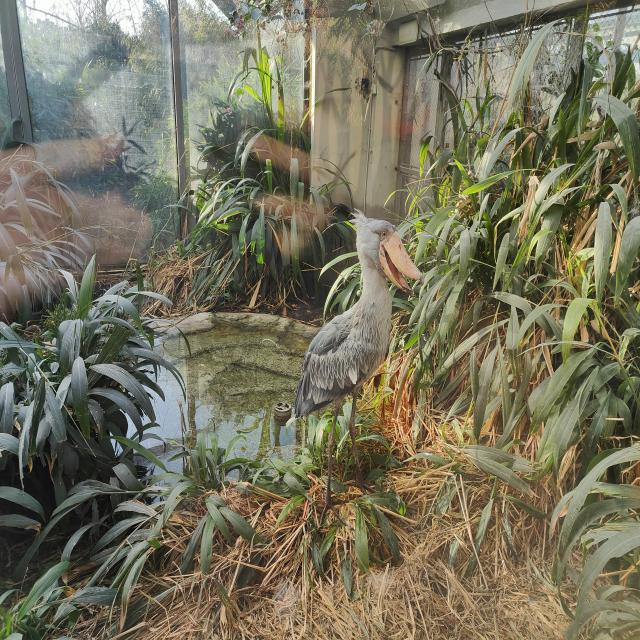bird: (294, 207, 425, 531)
